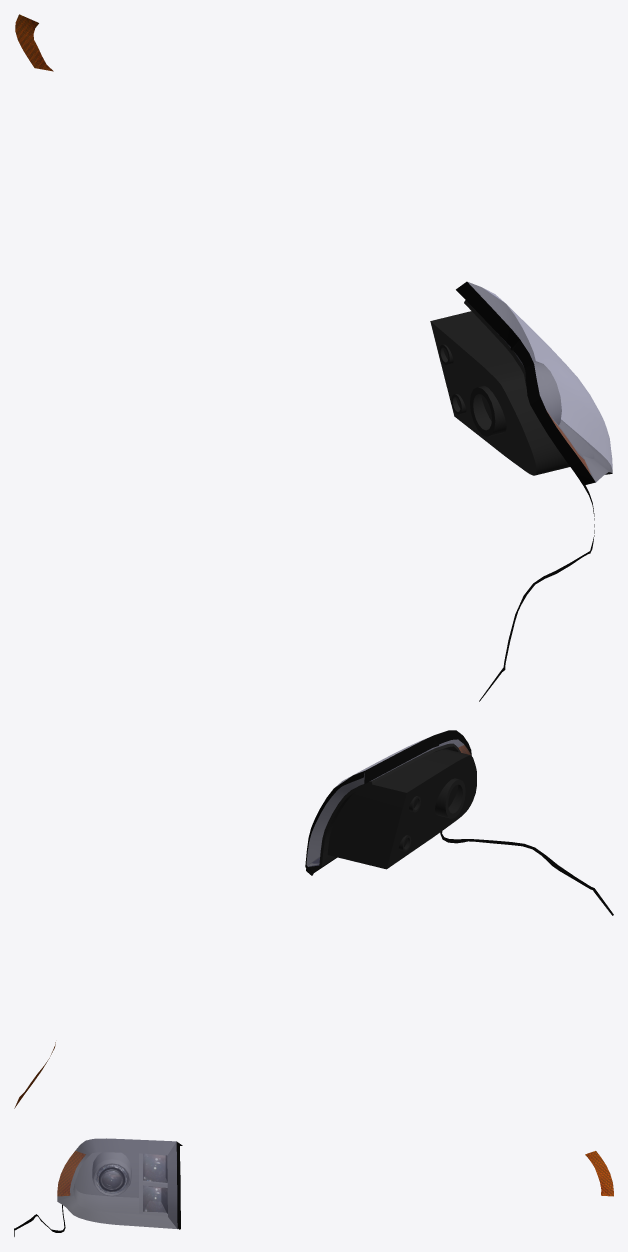
3 views of the same model, one above another, from view 1: azimuth 30°, elevation 25°; view 2: azimuth 150°, elevation 25°; view 3: azimuth 270°, elevation 25° (orthographic). The views are drawn at different scales.
Visible parts, largest first — view 1: H713_061B_R_H713_061B_R_6_D, H713_061B_R_H713_061B_R_7_DTaSI, H713_061B_R_H713_061B_R_7_D, H713_061B_R_H713_061B_R_2_DaS, H713_061B_R_H713_061B_R_5_N; view 2: H713_061B_R_H713_061B_R_6_D, H713_061B_R_H713_061B_R_7_D, H713_061B_R_H713_061B_R_7_DTaSI, H713_061B_R_H713_061B_R_2_DaS; view 3: H713_061B_R_H713_061B_R_7_DTaSI, H713_061B_R_H713_061B_R_2_DaS, H713_061B_R_1_N_H713_061B_R, H713_061B_R_H713_061B_R_3_N, H713_061B_R_H713_061B_R_4_N, H713_061B_R_H713_061B_R_5_N, H713_061B_R_H713_061B_R_9_N, H713_061B_R_H713_061B_R_7_D.
Boxes of the visible parts, x1=… form: H713_061B_R_H713_061B_R_6_D: x1=430, y1=300, x2=569, y2=475; H713_061B_R_H713_061B_R_7_DTaSI: x1=468, y1=282, x2=612, y2=482; H713_061B_R_H713_061B_R_7_D: x1=456, y1=281, x2=612, y2=701; H713_061B_R_H713_061B_R_2_DaS: x1=468, y1=282, x2=612, y2=481; H713_061B_R_H713_061B_R_5_N: x1=15, y1=14, x2=53, y2=71; H713_061B_R_H713_061B_R_6_D: x1=319, y1=743, x2=476, y2=869; H713_061B_R_H713_061B_R_7_D: x1=305, y1=730, x2=613, y2=915; H713_061B_R_H713_061B_R_7_DTaSI: x1=306, y1=737, x2=470, y2=866; H713_061B_R_H713_061B_R_2_DaS: x1=306, y1=739, x2=463, y2=866; H713_061B_R_H713_061B_R_7_DTaSI: x1=57, y1=1138, x2=177, y2=1228; H713_061B_R_H713_061B_R_2_DaS: x1=57, y1=1138, x2=177, y2=1228; H713_061B_R_1_N_H713_061B_R: x1=96, y1=1164, x2=127, y2=1193; H713_061B_R_H713_061B_R_3_N: x1=143, y1=1153, x2=167, y2=1182; H713_061B_R_H713_061B_R_4_N: x1=143, y1=1185, x2=167, y2=1213; H713_061B_R_H713_061B_R_5_N: x1=585, y1=1151, x2=613, y2=1196; H713_061B_R_H713_061B_R_9_N: x1=57, y1=1151, x2=85, y2=1196; H713_061B_R_H713_061B_R_7_D: x1=14, y1=1141, x2=182, y2=1236.
Bounding box in the file's own units: 44.99 × 50.63 × 208.
